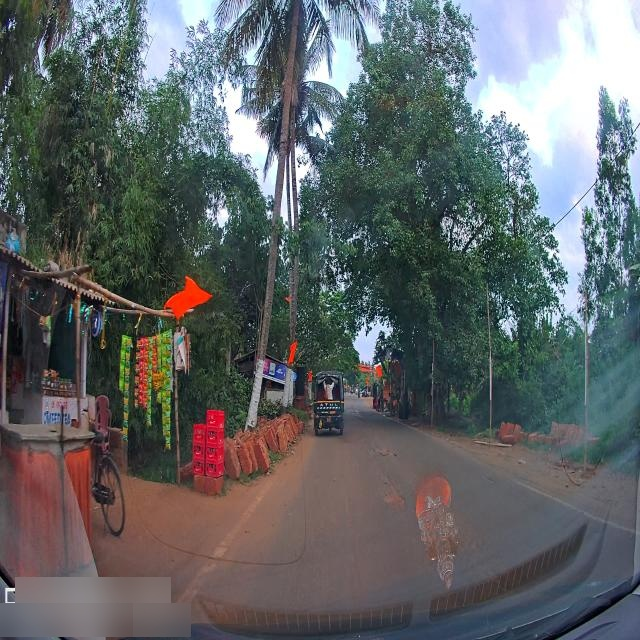pothole: (385, 474, 403, 504), (371, 447, 396, 457)
